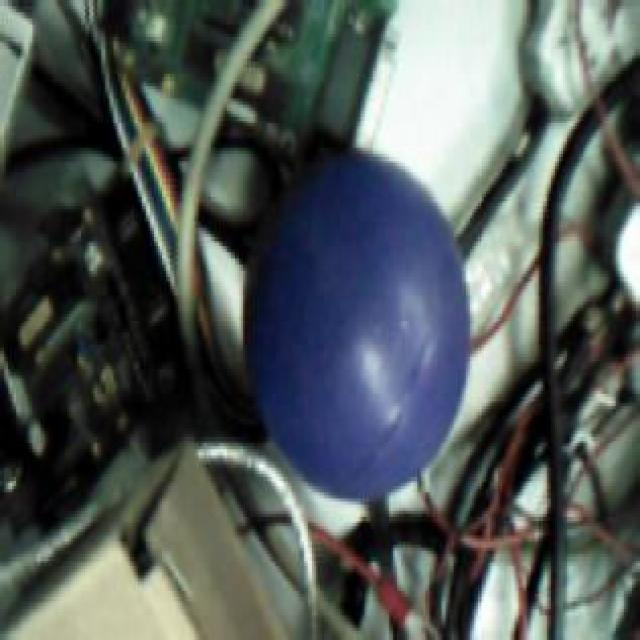BallPurple: (250, 151, 471, 492)
